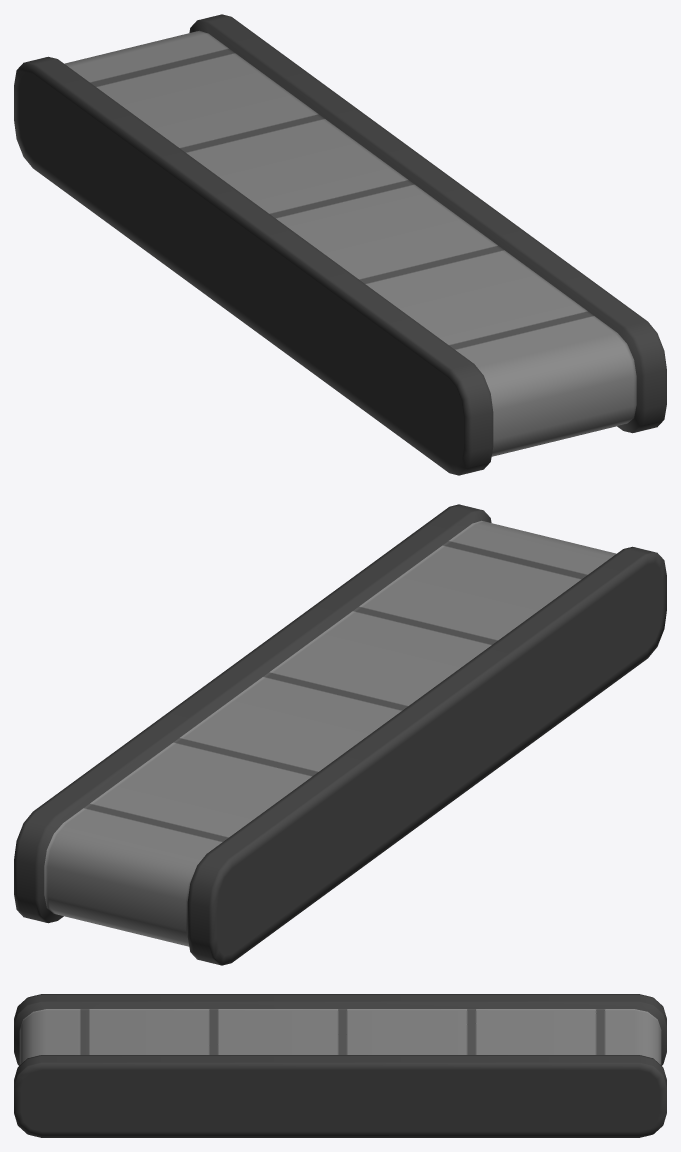
Rendered from PopcornCup_Belt.fbx.
3 views of the same model, one above another, from view 1: azimuth 30°, elevation 25°; view 2: azimuth 150°, elevation 25°; view 3: azimuth 270°, elevation 25° (orthographic). The views are drawn at different scales.
Visible parts, largest first — view 1: PopcornCup_Belt; view 2: PopcornCup_Belt; view 3: PopcornCup_Belt.
Part boxes in pixels (<box>): PopcornCup_Belt: <box>14,14,666,475</box>; PopcornCup_Belt: <box>14,504,666,965</box>; PopcornCup_Belt: <box>14,994,666,1137</box>.
Bounding box in the file's own units: 1037 × 516 × 4113.
